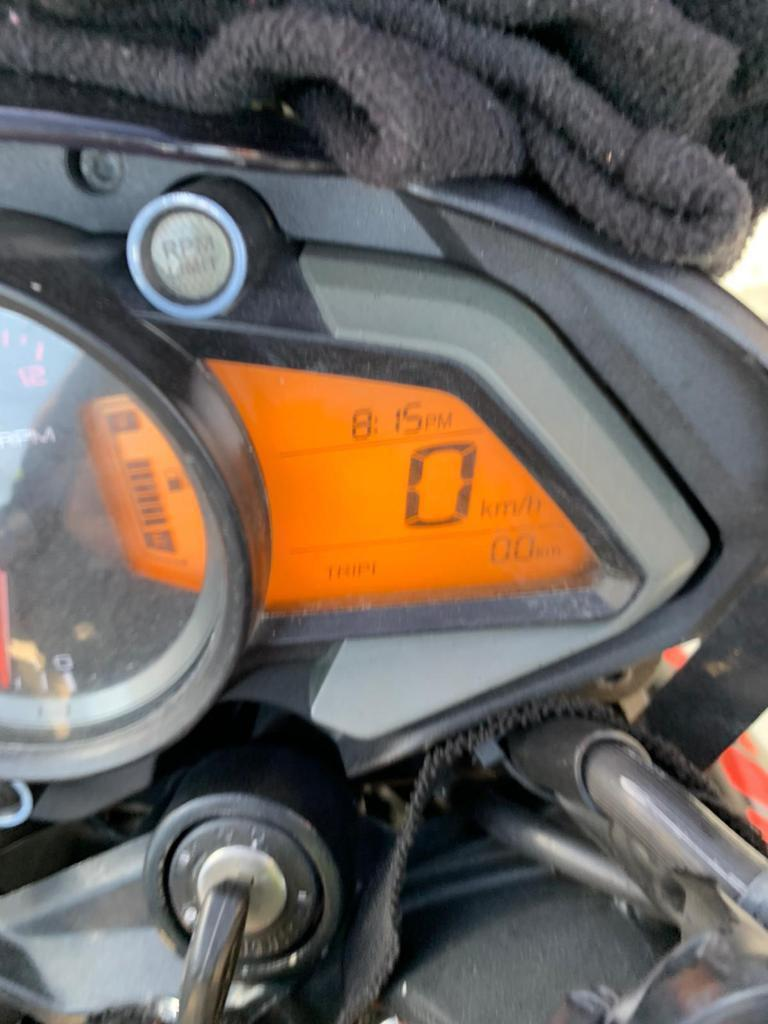0: (399, 442, 472, 524), (488, 533, 511, 564), (514, 533, 534, 563)
1: (393, 405, 402, 435), (372, 559, 377, 577)
5: (403, 400, 424, 435)
8: (350, 404, 372, 441)
X: (494, 498, 515, 517), (478, 495, 492, 518), (527, 494, 543, 514), (536, 542, 550, 562), (516, 494, 528, 517), (358, 559, 371, 580), (336, 562, 351, 579), (550, 542, 563, 561), (437, 412, 452, 428), (425, 412, 436, 432), (325, 561, 335, 580), (373, 414, 379, 435), (351, 560, 357, 579)
odometer: (70, 349, 605, 616)
